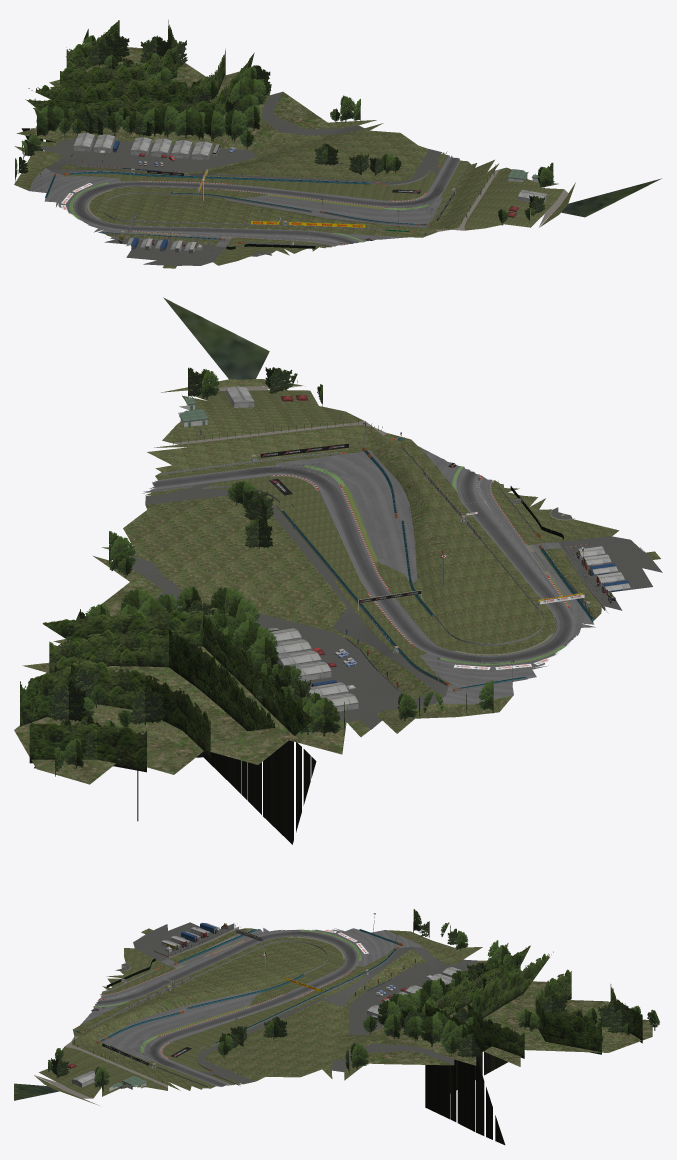
3 renders of one model, top to bottom at view 1: azimuth 30°, elevation 25°; view 2: azimuth 150°, elevation 25°; view 3: azimuth 270°, elevation 25°, orthographic. The views are drawn at different scales.
Visible parts, largest first — view 1: tile_t07; view 2: tile_t07; view 3: tile_t07.
Boxes of the visible parts, bbox=[...] form: tile_t07: bbox=[14, 20, 661, 268]; tile_t07: bbox=[14, 297, 662, 844]; tile_t07: bbox=[14, 909, 659, 1144].
Bounding box in the file's own units: 368 × 103 × 472.
Materials: 46 (46 with a texture image).
